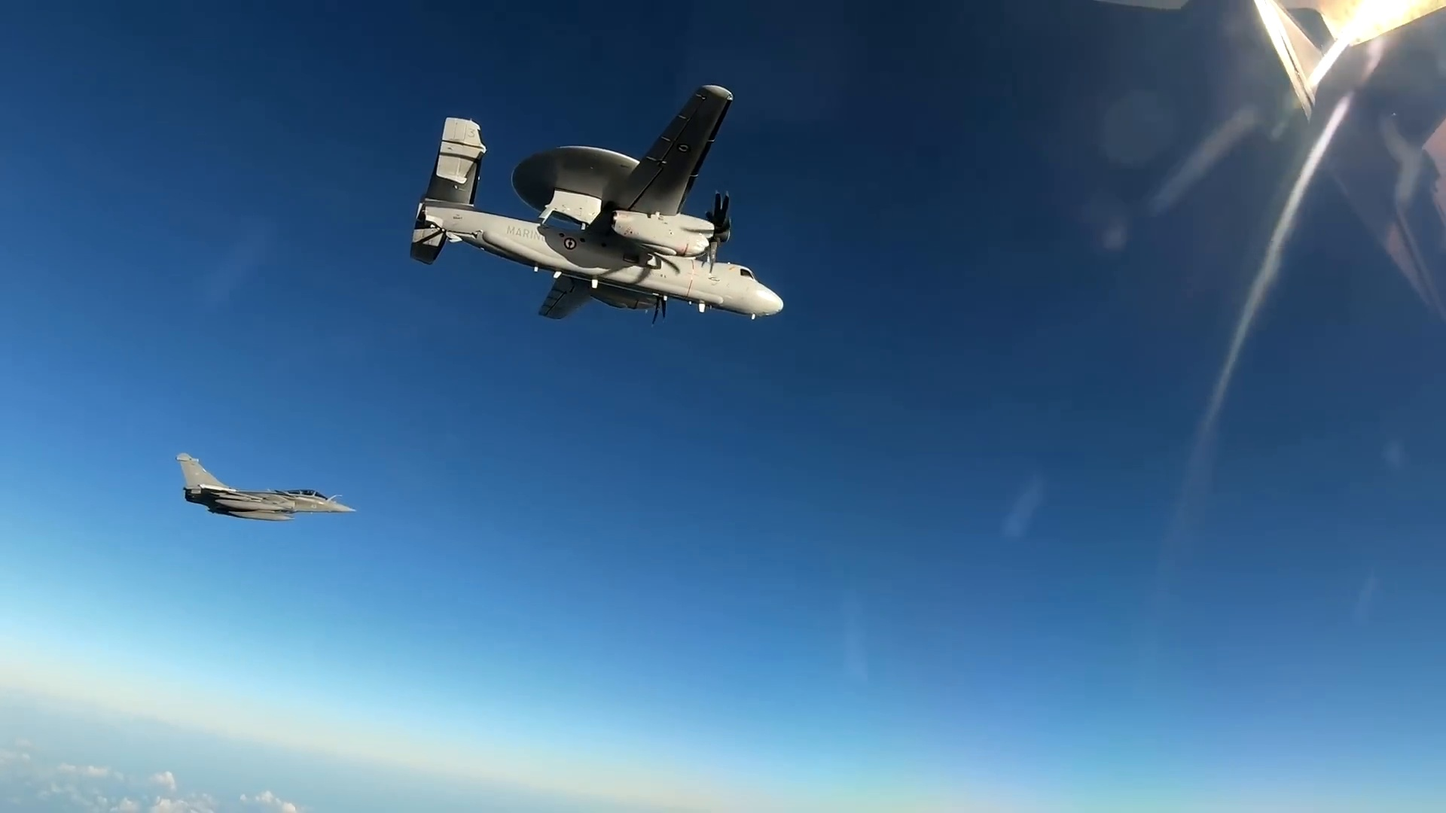Rafale: (176, 454, 359, 521)
